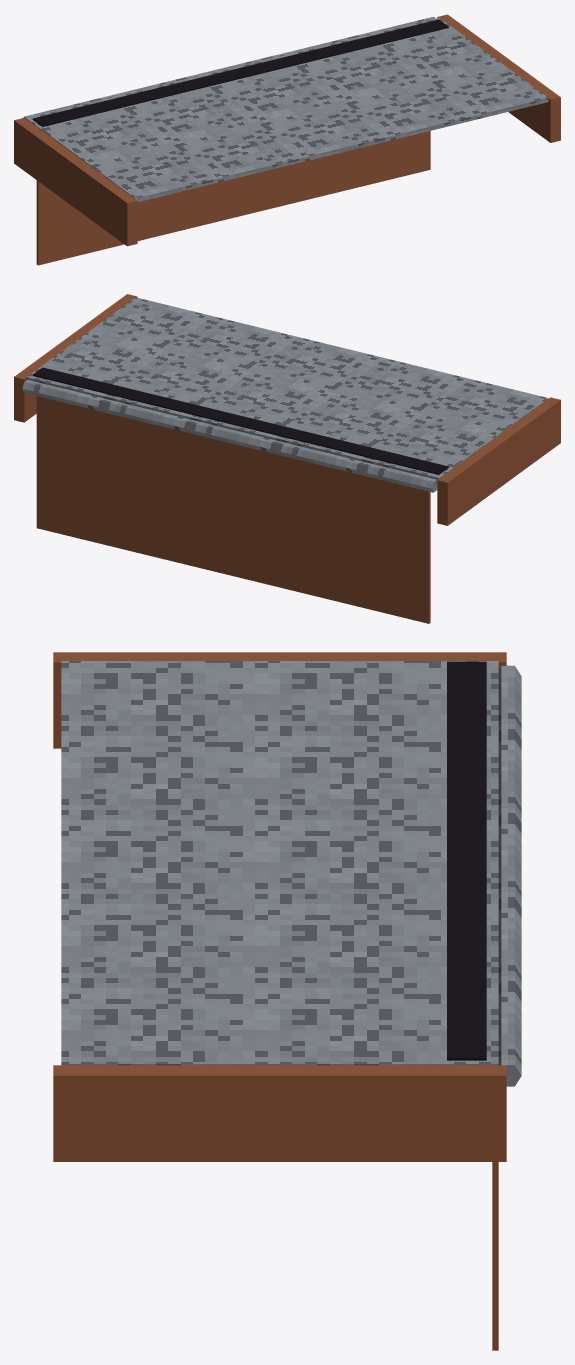
The model's file is s_stair_step.glb.
3 views of the same model, one above another, from view 1: azimuth 30°, elevation 25°; view 2: azimuth 150°, elevation 25°; view 3: azimuth 270°, elevation 25° (orthographic). The views are drawn at different scales.
Parts seen in each view (by area): view 1: s_stair_step_mesh; view 2: s_stair_step_mesh; view 3: s_stair_step_mesh.
Boxes of the visible parts, bbox=[...] form: s_stair_step_mesh: bbox=[14, 14, 560, 265]; s_stair_step_mesh: bbox=[14, 294, 560, 623]; s_stair_step_mesh: bbox=[53, 652, 521, 1350].
Size of what is drawn, in the model's own units: 1.26 by 0.4155 by 0.589.
Materials: 3 (3 with a texture image).
